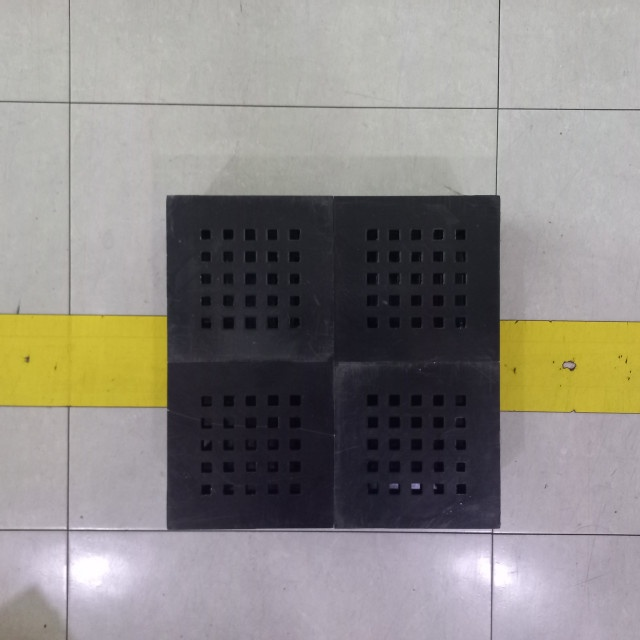pallet: (163, 193, 509, 530)
